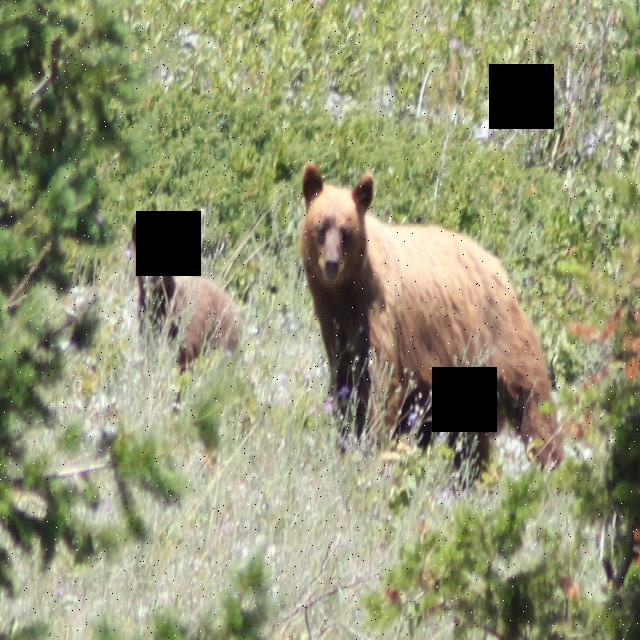Bear: (292, 156, 565, 480), (127, 208, 251, 374)
